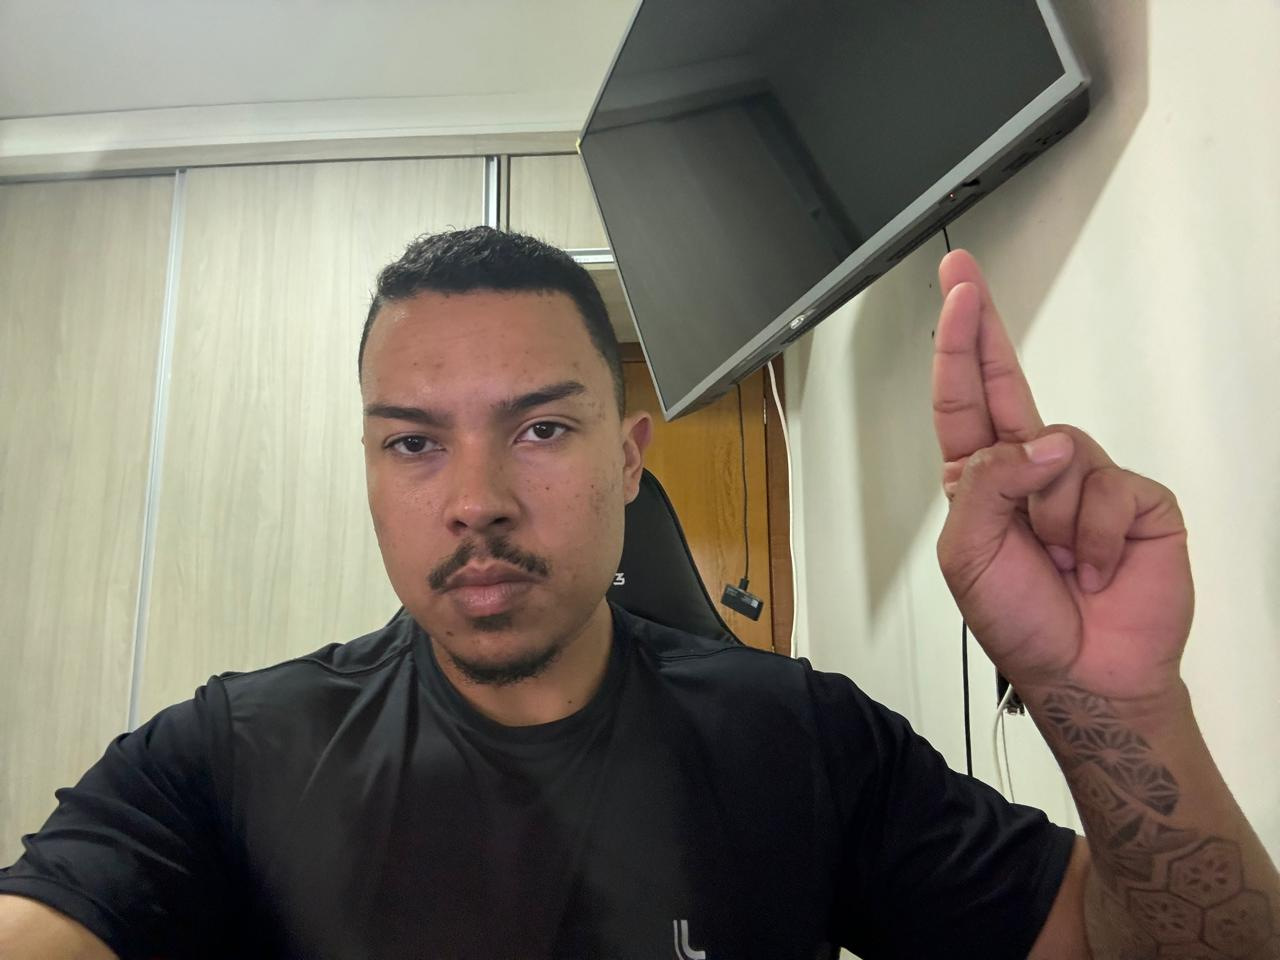r: (916, 234, 1210, 706)
